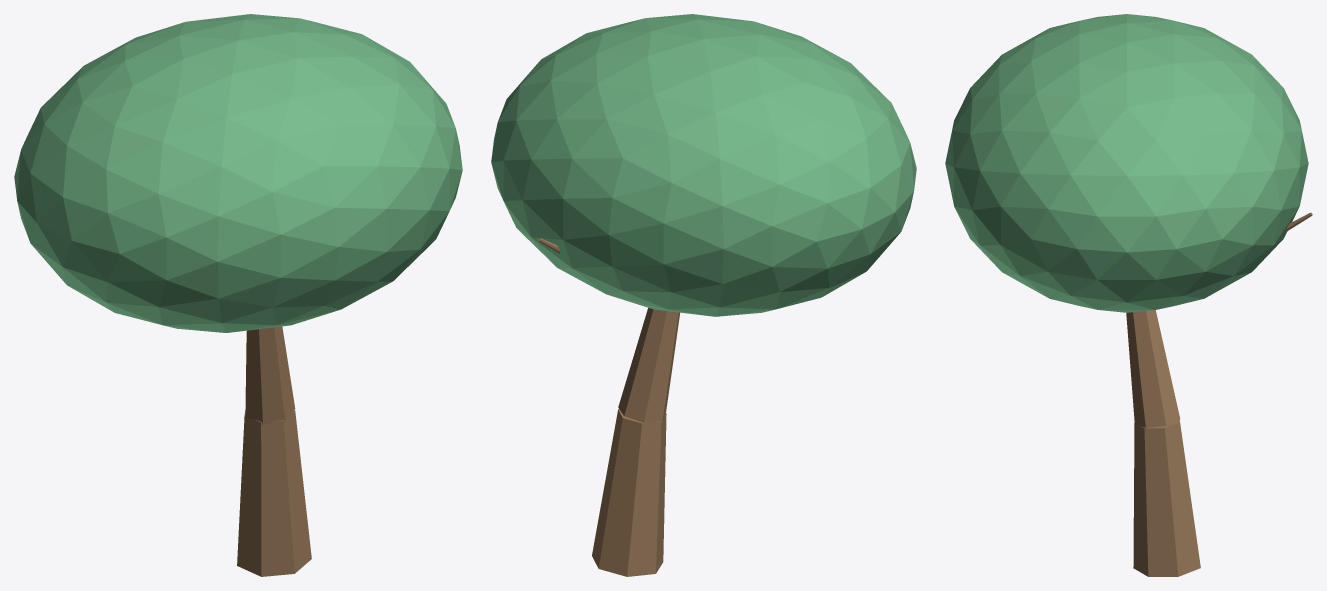
File: forest-deciduous-single-crown.glb
The picture shows the model from 3 angles, left to right: view 1: azimuth 30°, elevation 25°; view 2: azimuth 150°, elevation 25°; view 3: azimuth 270°, elevation 25°; orthographic projection. The views are drawn at different scales.
Visible parts, largest first — view 1: Merged_01_Green single crown, Merged_00_Brown; view 2: Merged_01_Green single crown, Merged_00_Brown; view 3: Merged_01_Green single crown, Merged_00_Brown.
Part boxes in pixels (x1,y1,x2,y2): Merged_01_Green single crown: (14,14,462,332); Merged_00_Brown: (237,326,311,576); Merged_01_Green single crown: (491,14,916,316); Merged_00_Brown: (538,238,679,576); Merged_01_Green single crown: (945,14,1308,312); Merged_00_Brown: (1126,212,1312,576).
Bounding box in the file's own units: 2.6 × 3.4 × 2.26.
